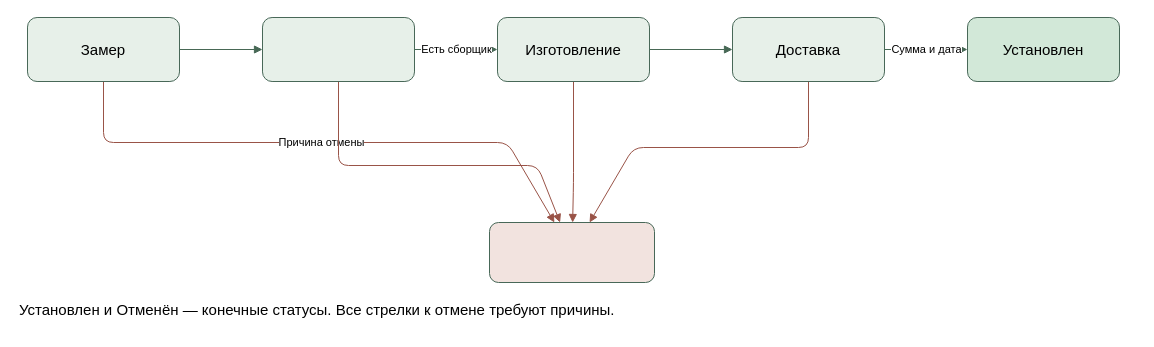
This 1154x347 diagram has some shape labels left out. The centre of each missing label's shape, as x and y in pixels:
Отменён: (571,252)
Проект: (338,49)
